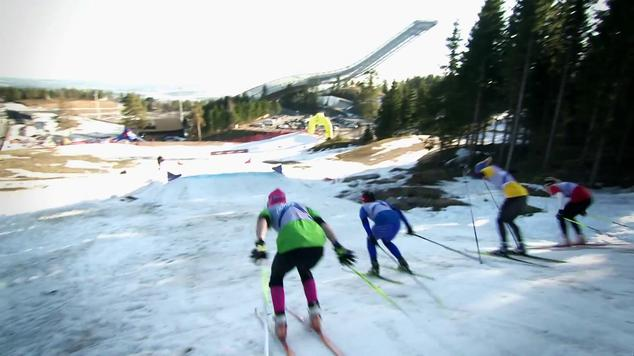crouch: (354, 192, 410, 272), (487, 177, 542, 252)
sit: (487, 177, 542, 252), (6, 107, 66, 148)
walk: (258, 189, 344, 313), (354, 192, 410, 272)
